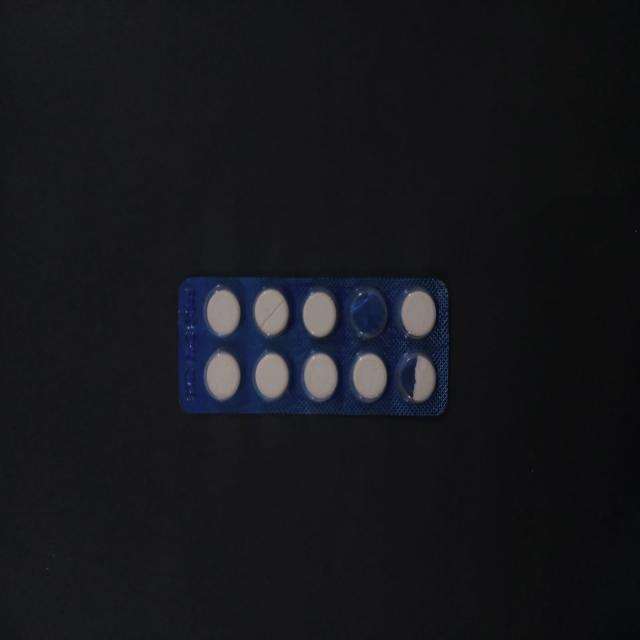defect: (394, 347, 439, 409), (346, 282, 392, 342), (251, 283, 293, 340)
